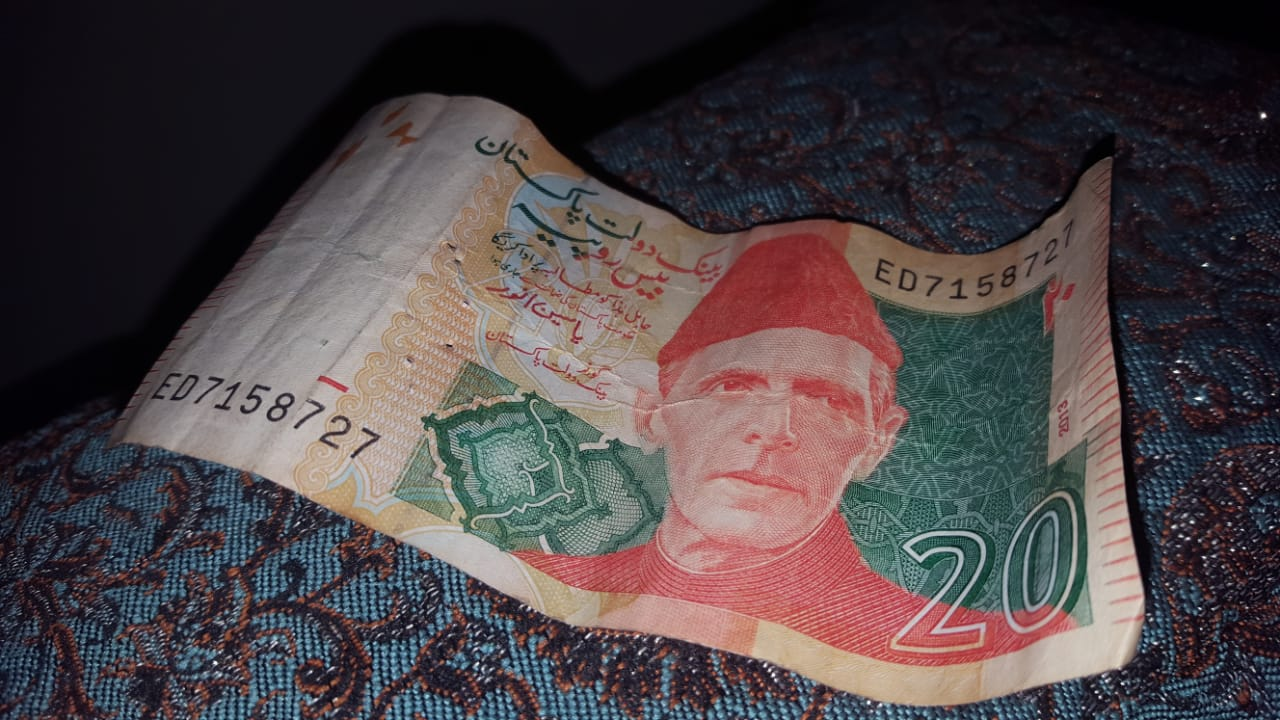20 rupee: (117, 77, 1203, 720)
